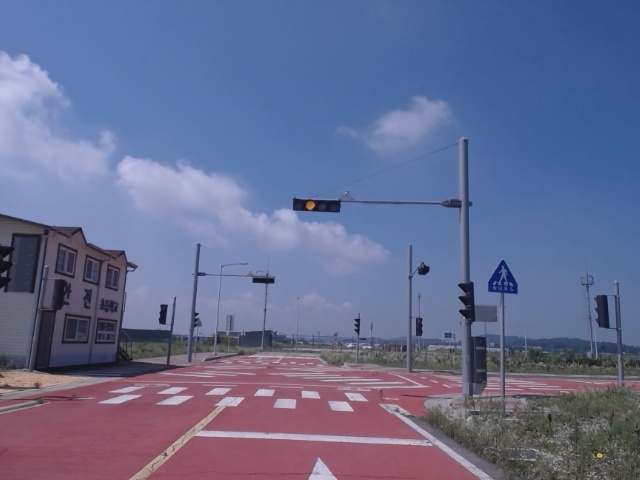orange_4: (293, 199, 341, 212)
